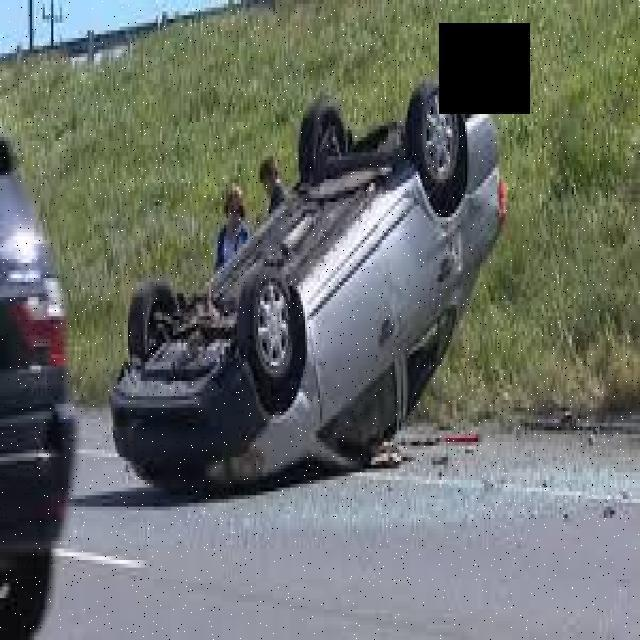single accident: (154, 79, 440, 436)
